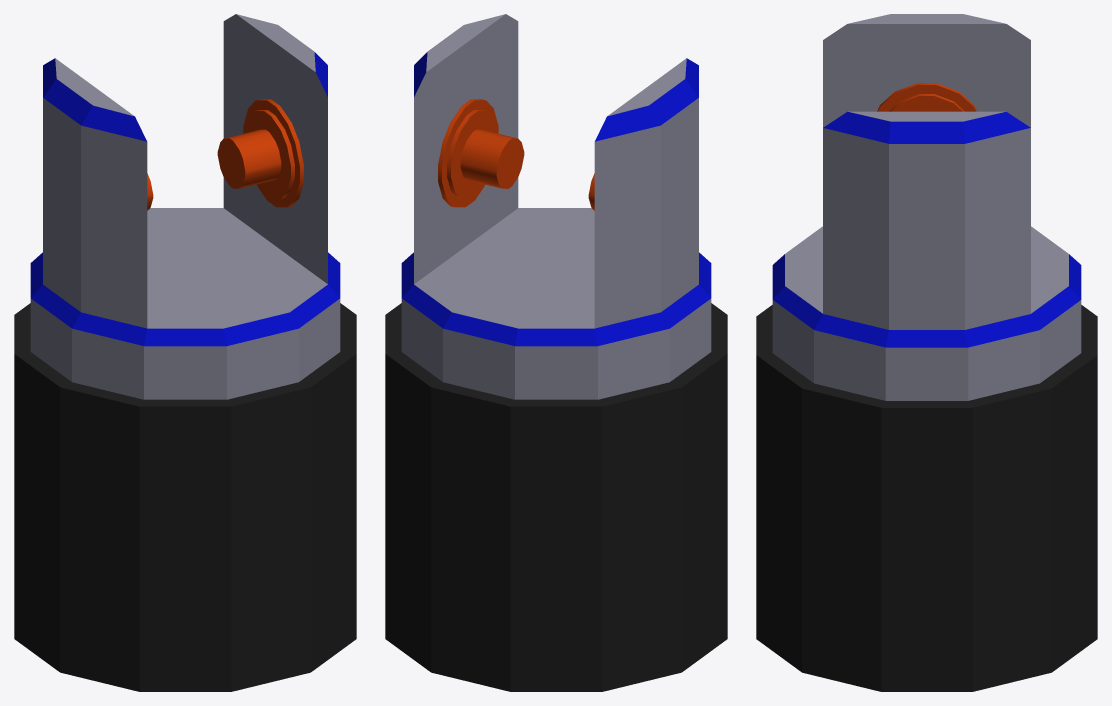
The model's file is basic_turntable.FBX.
The picture shows the model from 3 angles, left to right: view 1: azimuth 30°, elevation 25°; view 2: azimuth 150°, elevation 25°; view 3: azimuth 270°, elevation 25°; orthographic projection.
Parts seen in each view (by area): view 1: turret; view 2: turret; view 3: turret.
Part boxes in pixels (x1,y1,x2,y2): turret: (14, 14, 356, 691); turret: (385, 14, 727, 691); turret: (756, 14, 1097, 691).
Bounding box in the file's own units: 81.14 × 145 × 81.14.
